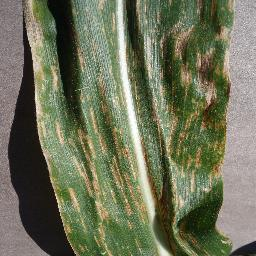Gray_Leaf_Spot: (17, 0, 242, 256), (247, 124, 248, 125)
